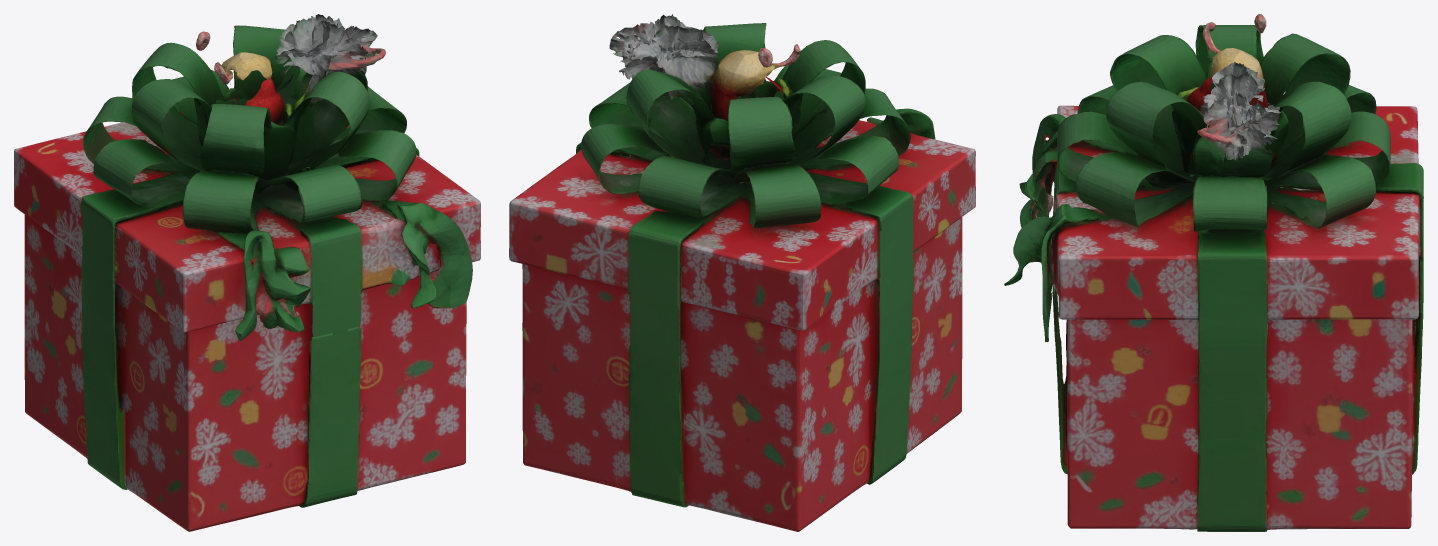
The model's file is boxgift.glb.
3 renders of one model, left to right at view 1: azimuth 30°, elevation 25°; view 2: azimuth 150°, elevation 25°; view 3: azimuth 270°, elevation 25°, orthographic. The views are drawn at different scales.
Parts seen in each view (by area): view 1: world; view 2: world; view 3: world.
Part boxes in pixels (bbox=[...]): world: bbox=[14, 14, 480, 531]; world: bbox=[509, 14, 975, 531]; world: bbox=[1004, 14, 1423, 531].
Size of the model in its own units: 0.7724 by 0.9869 by 0.8699.
1 material, 1 textured.
